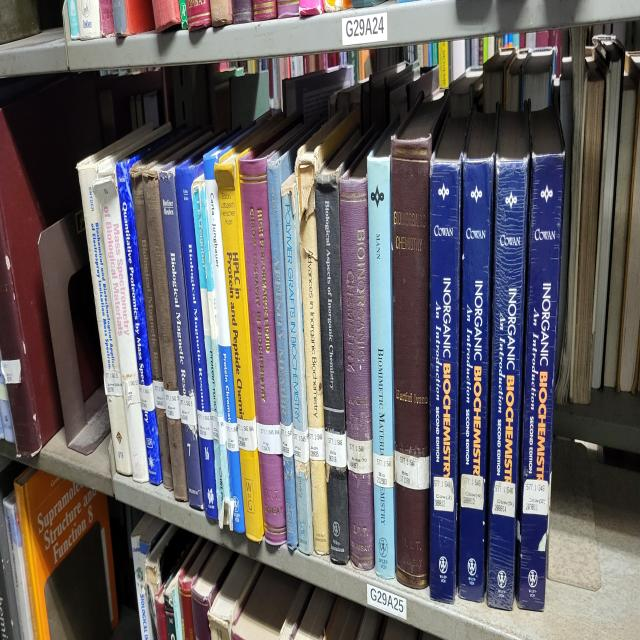Book: (295, 108, 360, 555), (391, 92, 449, 587), (215, 127, 268, 541), (488, 111, 530, 609), (315, 127, 362, 563), (239, 141, 288, 547), (459, 111, 498, 601), (430, 116, 469, 603), (94, 157, 149, 482), (78, 152, 131, 476), (204, 133, 245, 533), (141, 165, 189, 501), (175, 157, 218, 519), (159, 165, 204, 509), (340, 141, 375, 571), (116, 157, 162, 484), (368, 122, 398, 579), (281, 173, 314, 555), (132, 179, 172, 490), (268, 152, 299, 552), (191, 176, 224, 517), (464, 287, 465, 290)
Label: (395, 452, 430, 490), (522, 479, 549, 514), (460, 473, 484, 511), (346, 438, 372, 473), (325, 430, 348, 468), (256, 422, 281, 455), (492, 482, 515, 517), (372, 452, 394, 487), (434, 476, 455, 511), (238, 417, 258, 452), (180, 392, 198, 427), (294, 427, 310, 463), (309, 427, 325, 460), (164, 390, 181, 419), (125, 376, 140, 406), (198, 409, 212, 441), (280, 425, 294, 457), (104, 371, 122, 395), (139, 384, 155, 411), (225, 422, 239, 452), (152, 379, 165, 409), (211, 411, 219, 441), (218, 417, 226, 446)
